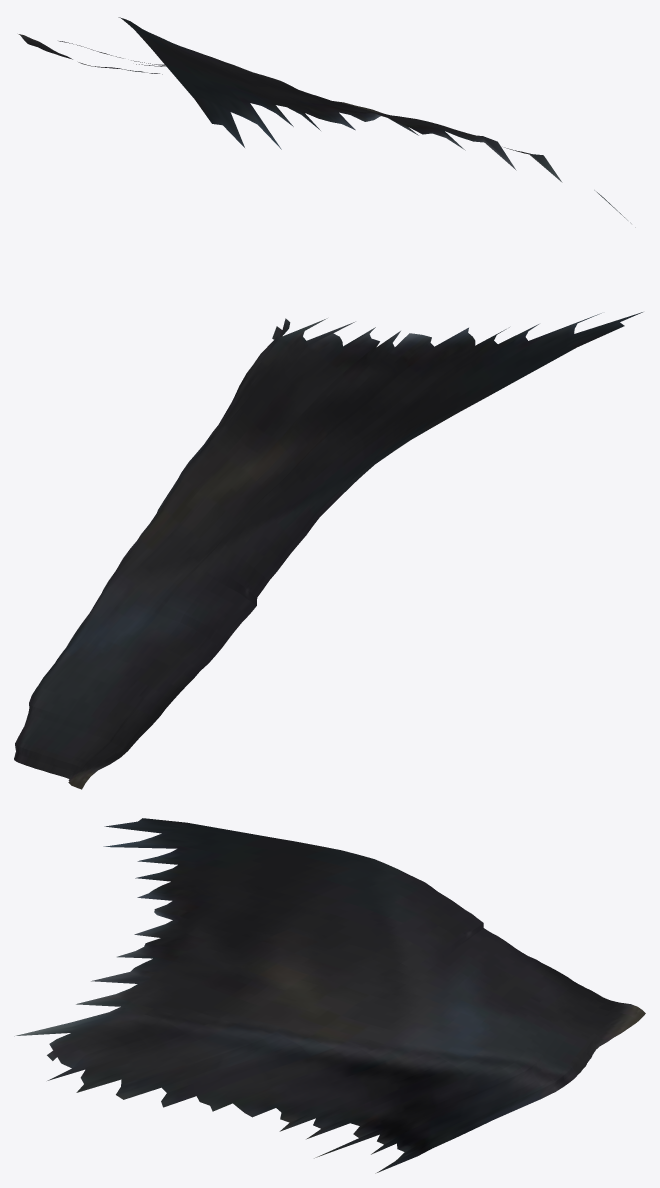
File: observed-surface.glb
The picture shows the model from 3 angles, top to bottom: view 1: azimuth 30°, elevation 25°; view 2: azimuth 150°, elevation 25°; view 3: azimuth 270°, elevation 25°; orthographic projection. The views are drawn at different scales.
Visible parts, largest first — view 1: geometry_0; view 2: geometry_0; view 3: geometry_0.
Boxes of the visible parts, x1=… form: geometry_0: x1=18, y1=17, x2=635, y2=227; geometry_0: x1=14, y1=312, x2=642, y2=789; geometry_0: x1=14, y1=818, x2=645, y2=1173.
Bounding box in the file's own units: 0.5771 × 0.4969 × 1.14.
Materials: 1 (1 with a texture image).
